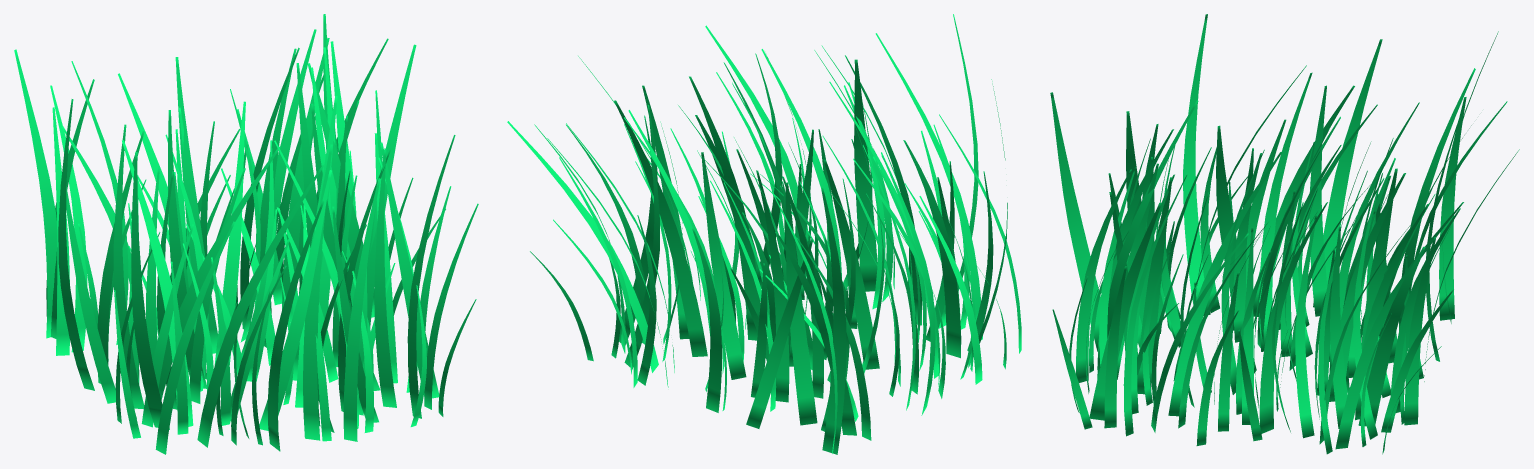
File: RW_grass_Standard_Final.fbx
The picture shows the model from 3 angles, left to right: view 1: azimuth 30°, elevation 25°; view 2: azimuth 150°, elevation 25°; view 3: azimuth 270°, elevation 25°; orthographic projection. The views are drawn at different scales.
Visible parts, largest first — view 1: Plane.110; view 2: Plane.110; view 3: Plane.110.
Part boxes in pixels (x1=…): Plane.110: x1=14, y1=14, x2=478, y2=454; Plane.110: x1=507, y1=14, x2=1021, y2=454; Plane.110: x1=1050, y1=14, x2=1519, y2=454.
Size of the model in its own units: 2.77 by 2.03 by 2.95.
